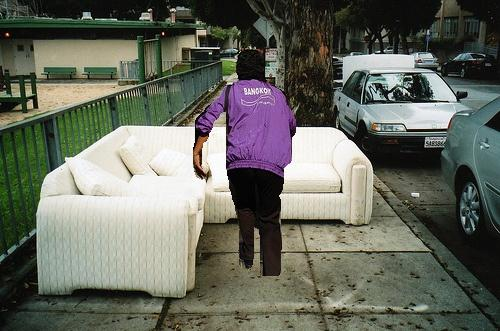tampered: (194, 50, 296, 276)
